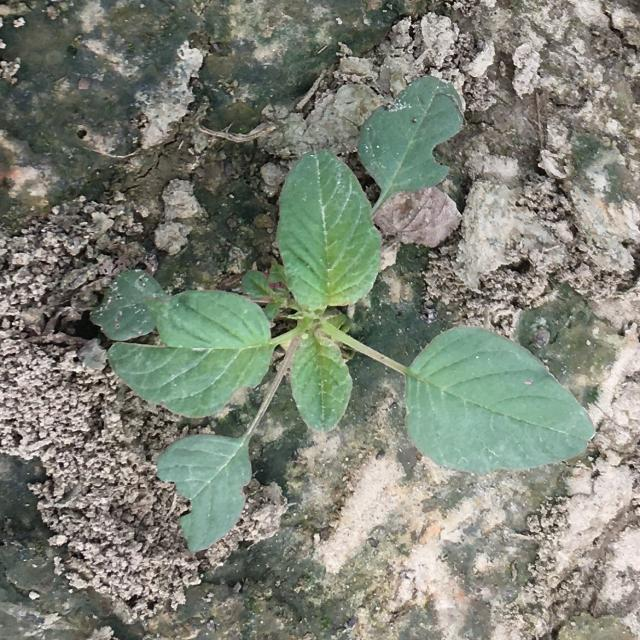PalmerAmaranth: (89, 75, 596, 553)
